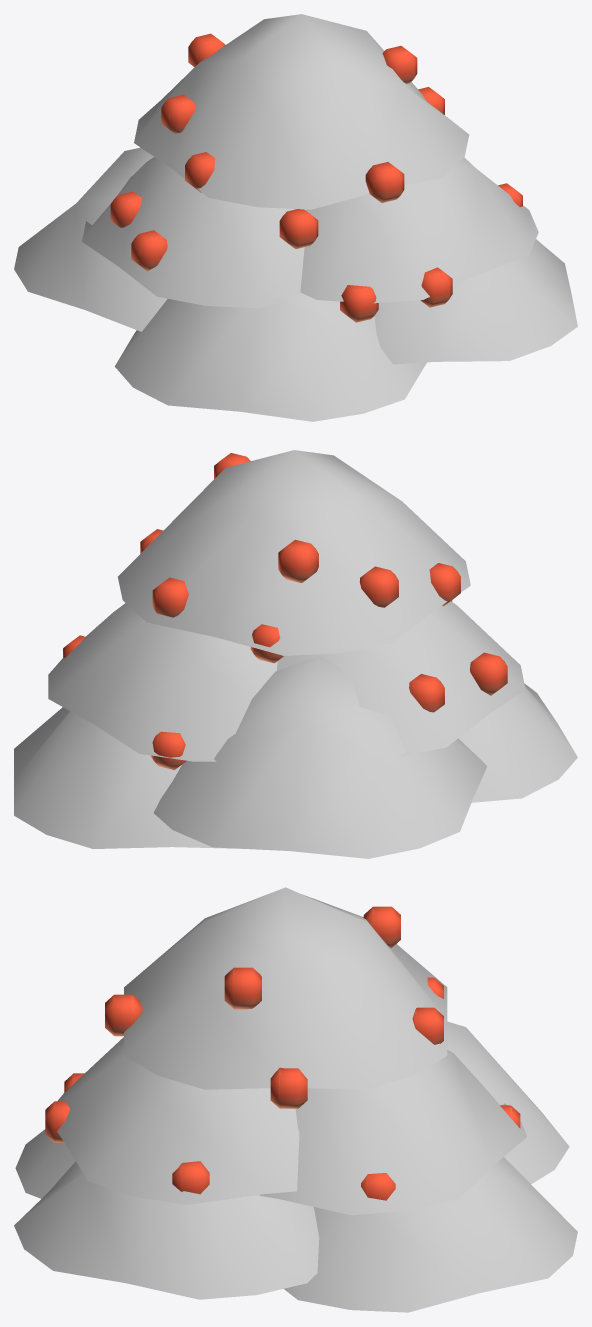
Rendered from BerryBush _ForestProp_001.fbx.
The picture shows the model from 3 angles, top to bottom: view 1: azimuth 30°, elevation 25°; view 2: azimuth 150°, elevation 25°; view 3: azimuth 270°, elevation 25°; orthographic projection. The views are drawn at different scales.
Visible parts, largest first — view 1: 平面, 平面.006, 平面.003, 平面.001, 平面.004, 平面.007, Berry.015, Berry.014, Berry.012, Berry.010, Berry.008, Berry.013 (+4 smaller); view 2: 平面, 平面.007, 平面.002, 平面.005, 平面.001, 平面.006, Berry.005, Berry.010, Berry.008, Berry.006, Berry.007, Berry.011 (+2 smaller); view 3: 平面, 平面.004, 平面.005, 平面.003, 平面.002, 平面.007, 平面.006, Berry.003, Berry, Berry.014, Berry.005, Berry.002 (+3 smaller).
Part boxes in pixels (left/top/right/bottom): 平面: left=134, top=14, right=469, bottom=209; 平面.006: left=115, top=293, right=426, bottom=421; 平面.003: left=300, top=157, right=538, bottom=303; 平面.001: left=82, top=157, right=305, bottom=308; 平面.004: left=374, top=239, right=577, bottom=364; 平面.007: left=14, top=147, right=167, bottom=331; Berry.015: left=279, top=209, right=318, bottom=248; Berry.014: left=365, top=162, right=404, bottom=202; Berry.012: left=340, top=285, right=378, bottom=322; Berry.010: left=131, top=230, right=167, bottom=271; Berry.008: left=161, top=94, right=195, bottom=133; Berry.013: left=420, top=267, right=452, bottom=307; 平面: left=118, top=450, right=470, bottom=655; 平面.007: left=153, top=656, right=486, bottom=858; 平面.002: left=48, top=603, right=277, bottom=761; 平面.005: left=14, top=707, right=241, bottom=848; 平面.001: left=276, top=601, right=525, bottom=756; 平面.006: left=458, top=683, right=577, bottom=802; Berry.005: left=278, top=539, right=318, bottom=583; Berry.010: left=470, top=652, right=507, bottom=695; Berry.008: left=359, top=566, right=398, bottom=607; Berry.006: left=152, top=577, right=188, bottom=617; Berry.007: left=150, top=731, right=186, bottom=769; Berry.011: left=409, top=674, right=444, bottom=712; 平面: left=124, top=887, right=447, bottom=1089; 平面.004: left=14, top=1161, right=319, bottom=1299; 平面.005: left=284, top=1157, right=577, bottom=1312; 平面.003: left=57, top=1037, right=299, bottom=1204; 平面.002: left=259, top=1049, right=526, bottom=1215; 平面.007: left=447, top=1021, right=569, bottom=1184; 平面.006: left=15, top=1129, right=75, bottom=1198; Berry.003: left=224, top=967, right=261, bottom=1009; Berry: left=270, top=1067, right=307, bottom=1108; Berry.014: left=105, top=994, right=142, bottom=1036; Berry.005: left=363, top=906, right=400, bottom=948; Berry.002: left=172, top=1161, right=209, bottom=1194.
Size of the model in its own units: 270 by 172 by 279.
